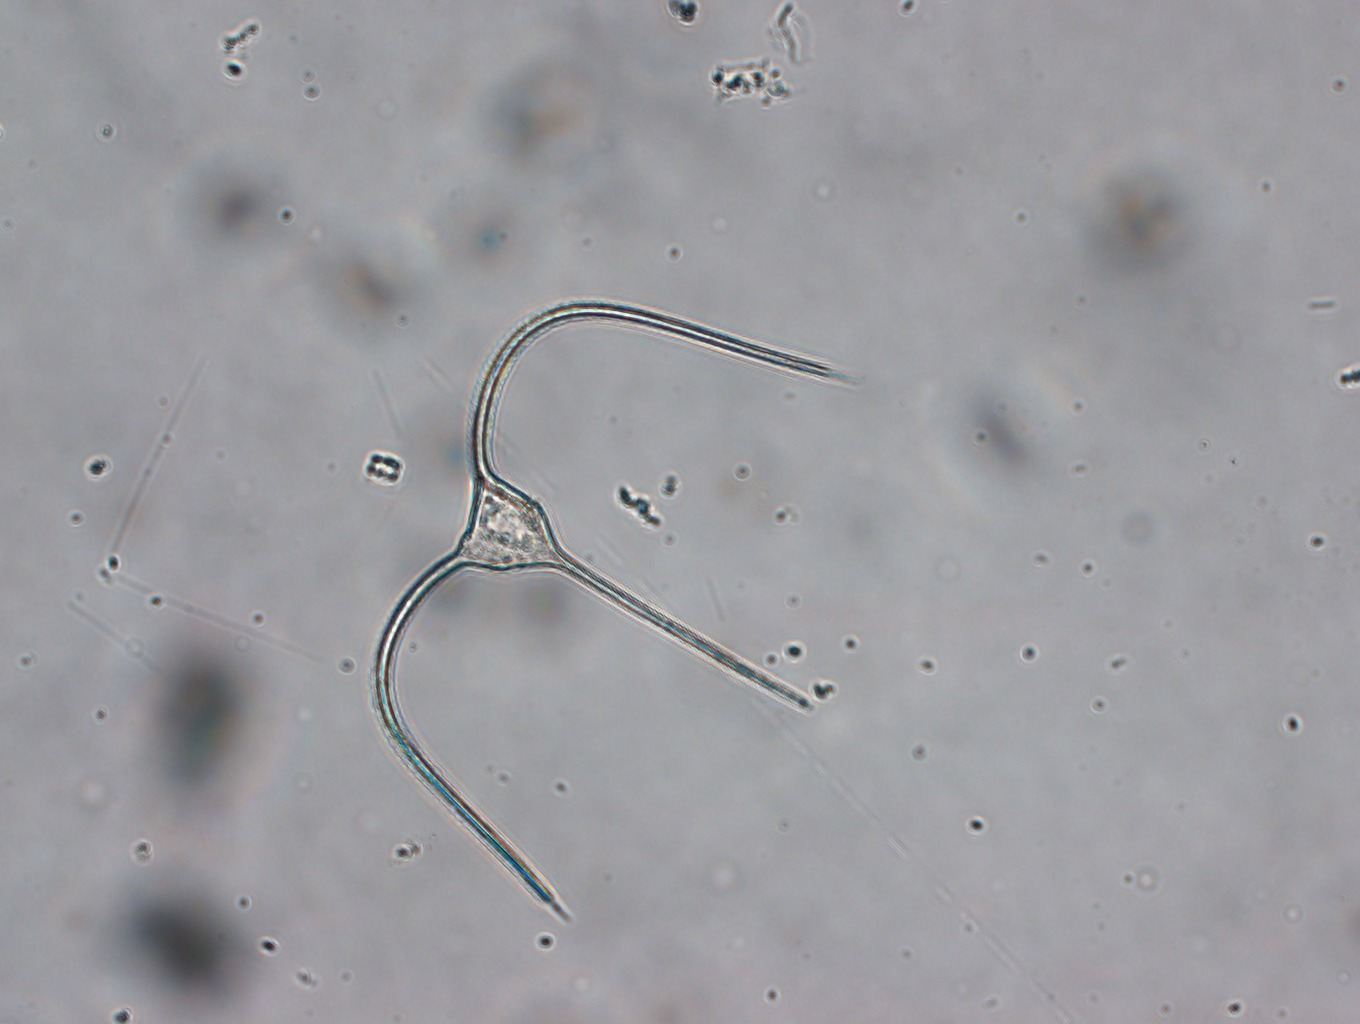ceratium trichoceros: (373, 299, 872, 925)
